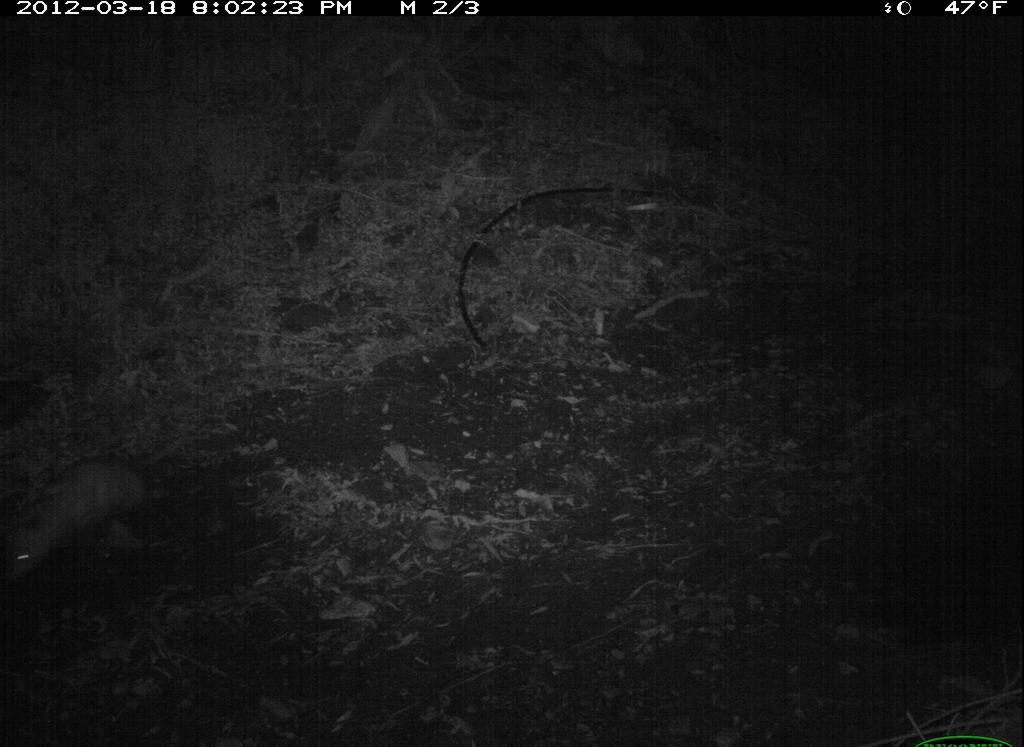opossum: (2, 427, 222, 602)
